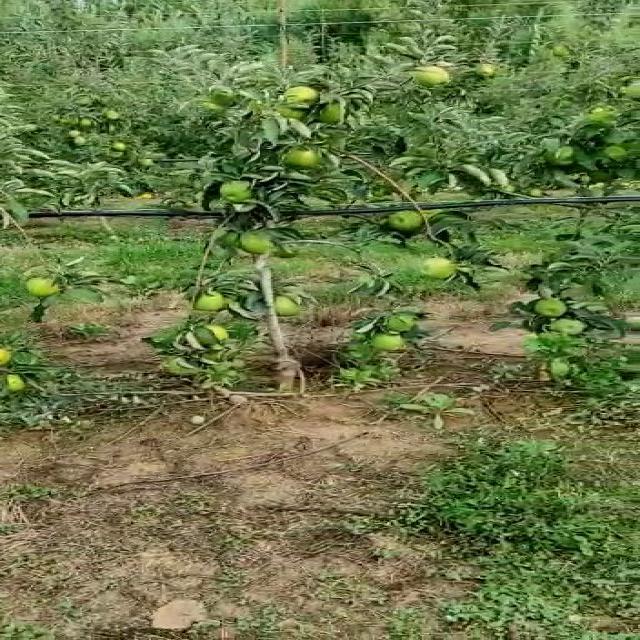100-_ripeness: (186, 326, 237, 348), (406, 65, 449, 88), (23, 276, 64, 297), (384, 209, 424, 229), (271, 295, 309, 316), (284, 149, 324, 167), (282, 87, 324, 104), (191, 289, 224, 310), (420, 258, 458, 276), (243, 232, 274, 254), (374, 312, 414, 329), (535, 297, 569, 317), (371, 331, 405, 350), (324, 102, 351, 122), (558, 319, 586, 336), (220, 183, 249, 198), (556, 148, 571, 164)
